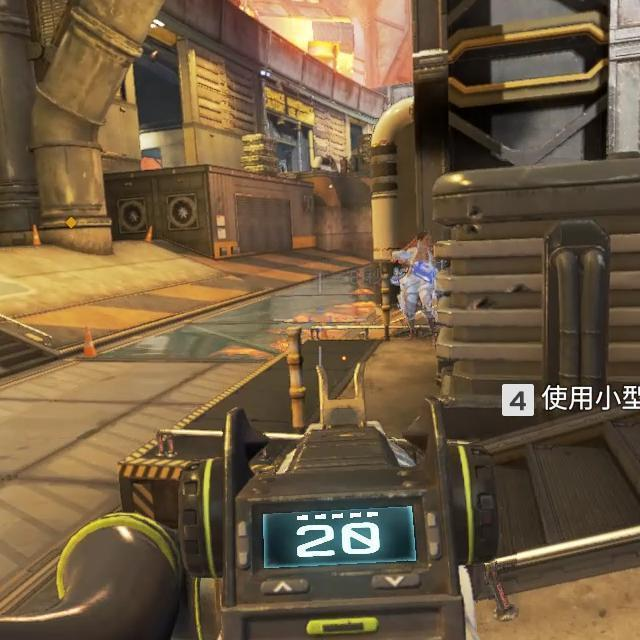avatar: (389, 227, 439, 343)
